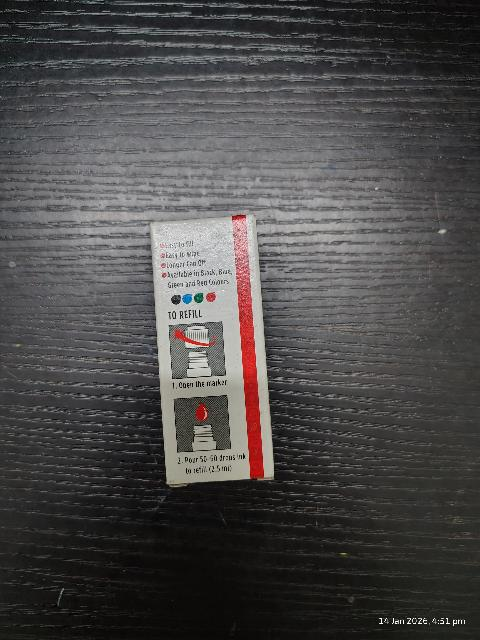camlin marker ink: (155, 219, 276, 483)
